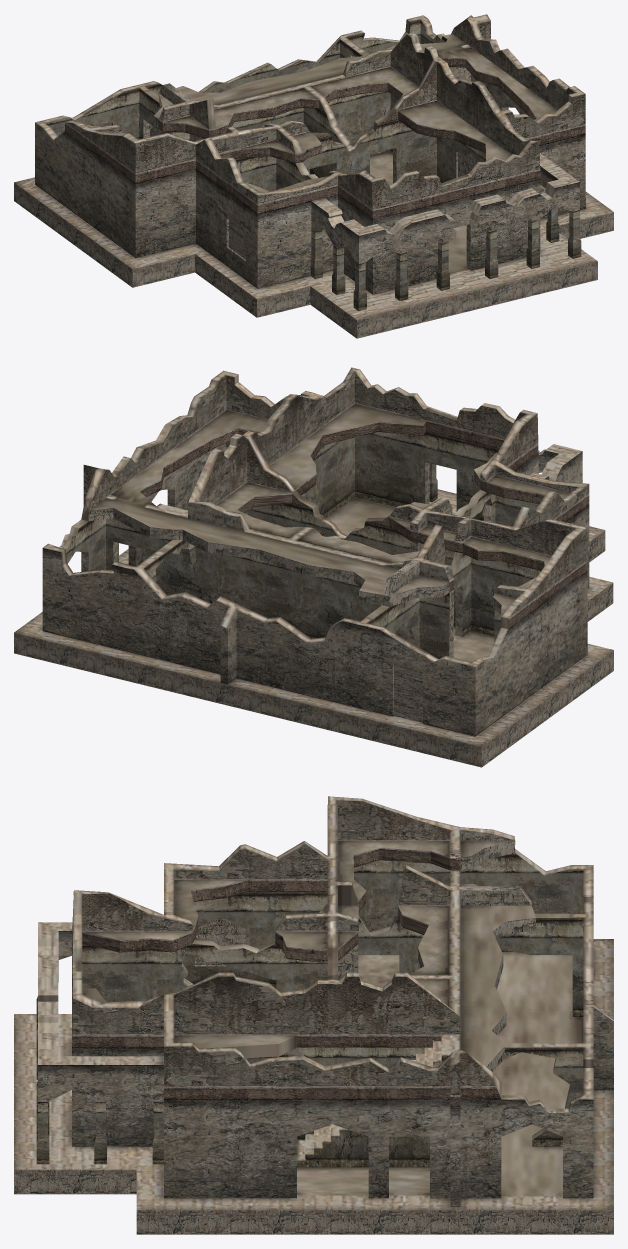
The model's file is TrnBld1.glb.
The picture shows the model from 3 angles, top to bottom: view 1: azimuth 30°, elevation 25°; view 2: azimuth 150°, elevation 25°; view 3: azimuth 270°, elevation 25°; orthographic projection. The views are drawn at different scales.
Parts seen in each view (by area): view 1: _TrnBld1; view 2: _TrnBld1; view 3: _TrnBld1.
Part boxes in pixels (x1,y1,x2,y2): _TrnBld1: [14, 14, 613, 338]; _TrnBld1: [14, 367, 613, 767]; _TrnBld1: [14, 796, 613, 1234].
Size of the model in its own units: 23.5 by 7.87 by 22.
4 materials, 4 textured.
